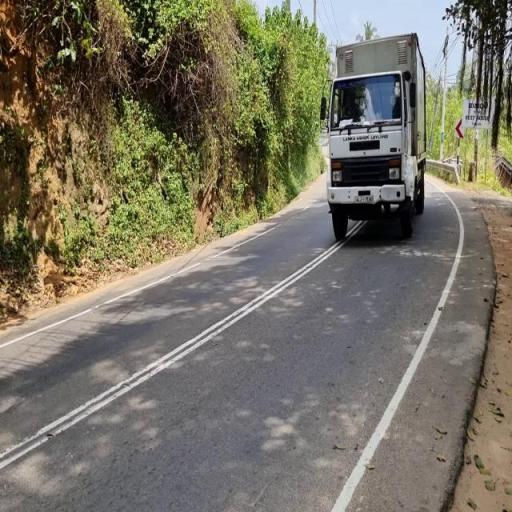double_white_line: (0, 202, 378, 474)
